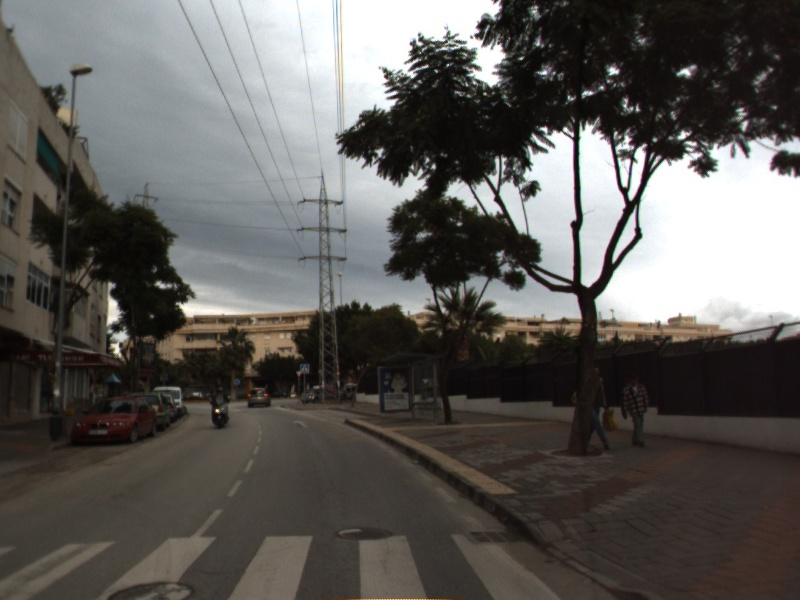STRAIGHT: (290, 418, 311, 430)
